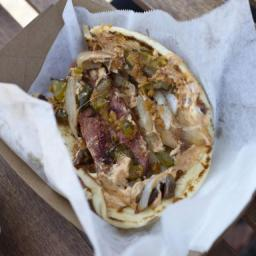hotdog: (74, 80, 158, 180)
